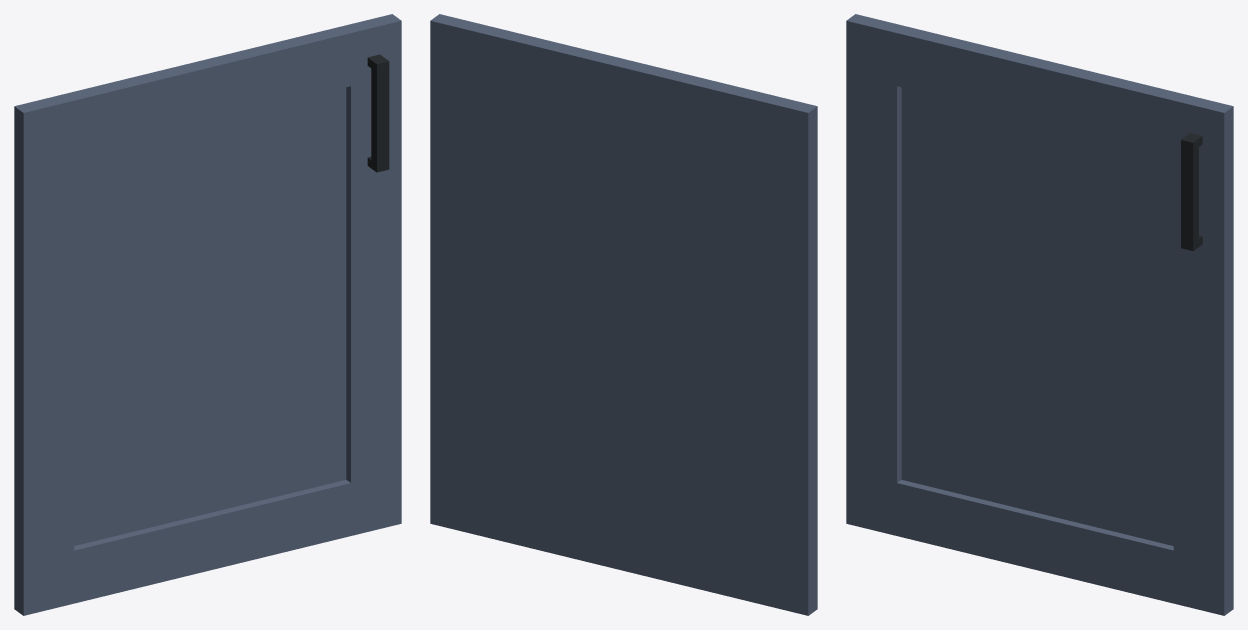
The model's file is Door2_C4_02.fbx.
3 views of the same model, side by side, from view 1: azimuth 30°, elevation 25°; view 2: azimuth 150°, elevation 25°; view 3: azimuth 330°, elevation 25° (orthographic).
Parts seen in each view (by area): view 1: Door2_C4_02; view 2: Door2_C4_02; view 3: Door2_C4_02.
Boxes of the visible parts, x1,y1,x2,y2 form: Door2_C4_02: (14,14,401,615); Door2_C4_02: (430,14,817,615); Door2_C4_02: (846,14,1233,615).
Size of the model in its own units: 59 by 75 by 5.03.
